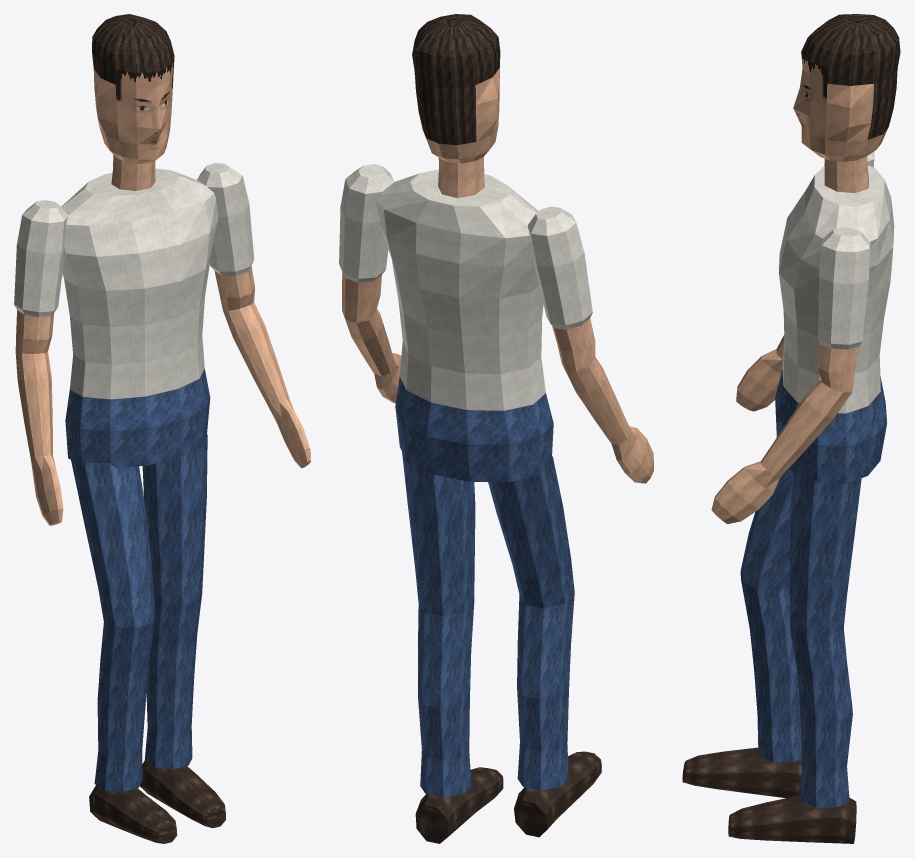
Rendered from walk_11.obj.
3 renders of one model, left to right at view 1: azimuth 30°, elevation 25°; view 2: azimuth 150°, elevation 25°; view 3: azimuth 270°, elevation 25°, orthographic. The views are drawn at different scales.
Size of the model in its own units: 0.6296 by 1.85 by 0.4517.
Materials: 25 (25 with a texture image).
